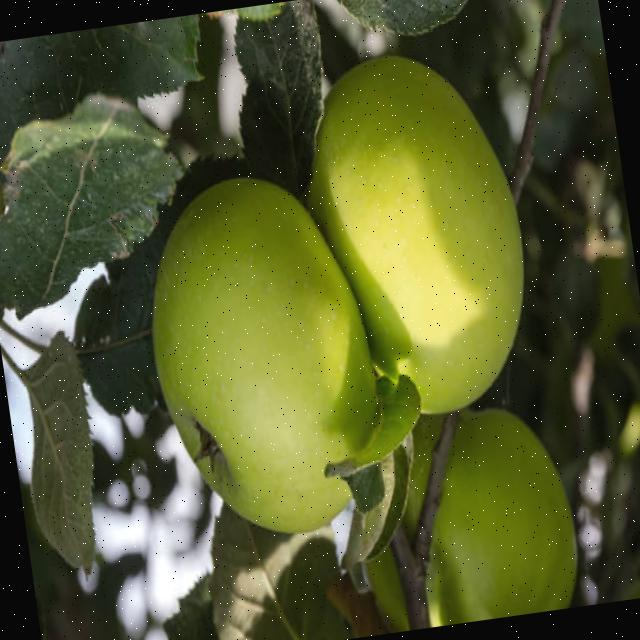Unripe: (132, 163, 394, 552), (293, 41, 546, 434)
